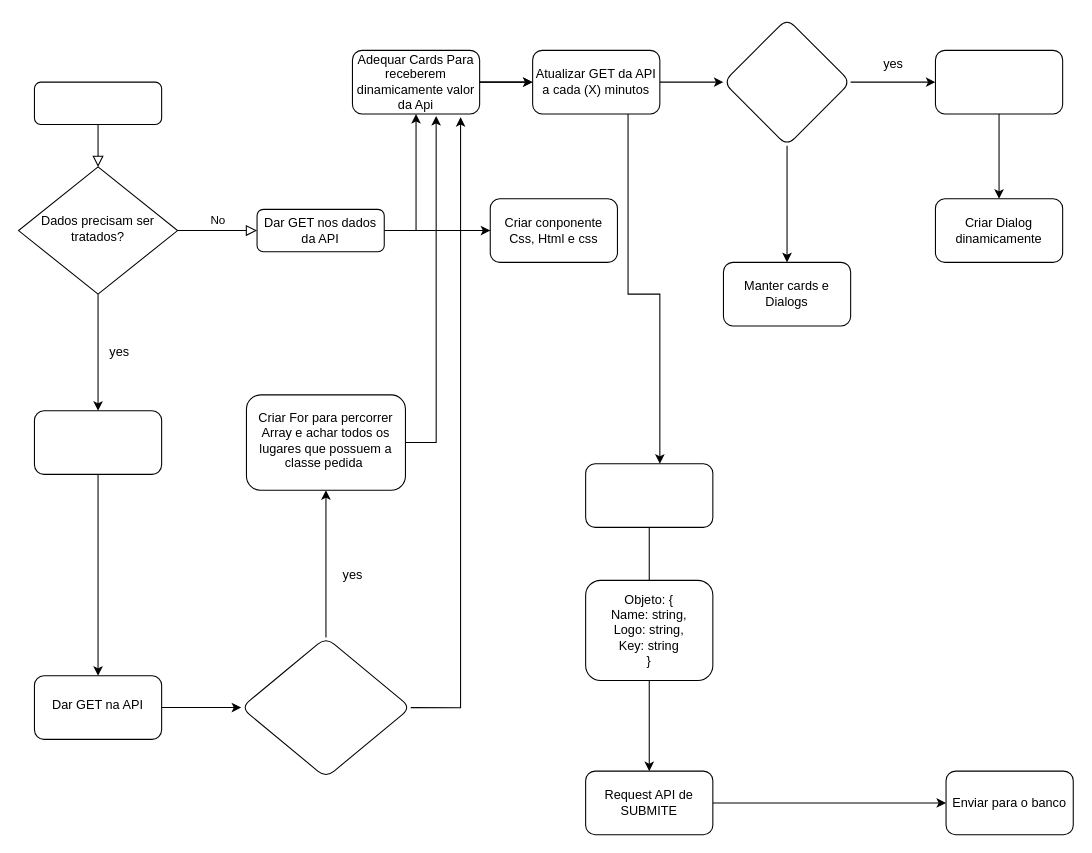
This 1092x853 diagram has some shape labels left out. Each missing label, with the centre of its shape:
Criar novo card dinamicamente: (998,81)
Dados da API externa: (97,103)
Dados está em Array de Obj?: (325,707)
Pegar dados GET e colocar em Obejto: (649,495)
Possui novo dado?: (786,81)
Tratar dados no Front ou back: (97,442)
